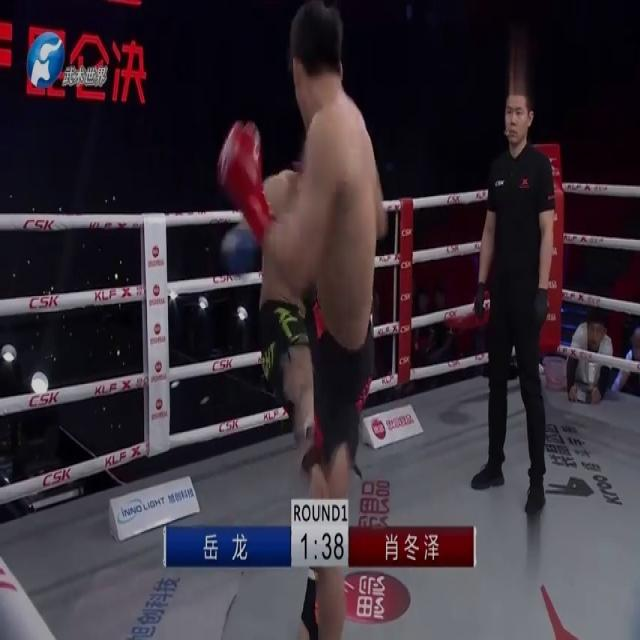fight: (227, 0, 390, 639)
non-fight: (465, 79, 561, 512)
